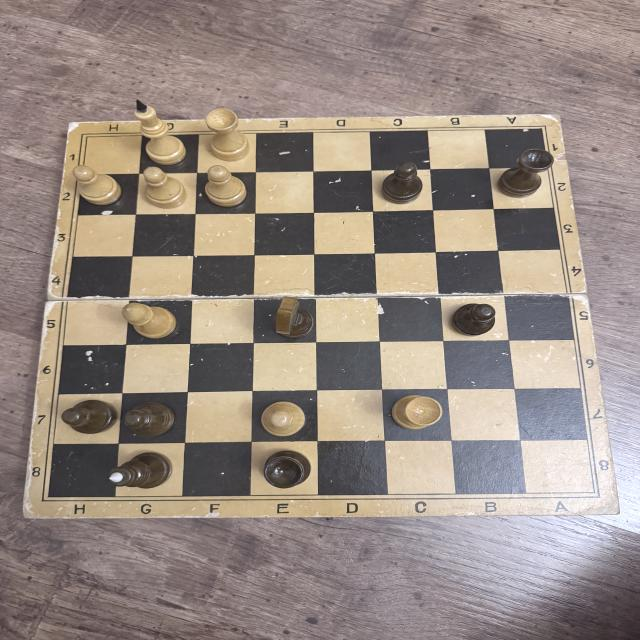black-king: (104, 453, 172, 490)
black-knight: (269, 296, 313, 340)
black-pawn: (122, 401, 178, 438), (62, 399, 117, 436), (380, 162, 422, 205), (452, 301, 494, 337)
black-rook: (497, 148, 553, 197), (262, 451, 312, 488)
white-bishop: (120, 302, 181, 342)
white-king: (133, 98, 187, 166)
white-pawn: (136, 166, 187, 210), (72, 163, 122, 206), (205, 164, 248, 210), (259, 402, 309, 439)
white-rook: (202, 109, 252, 162), (392, 394, 444, 431)
